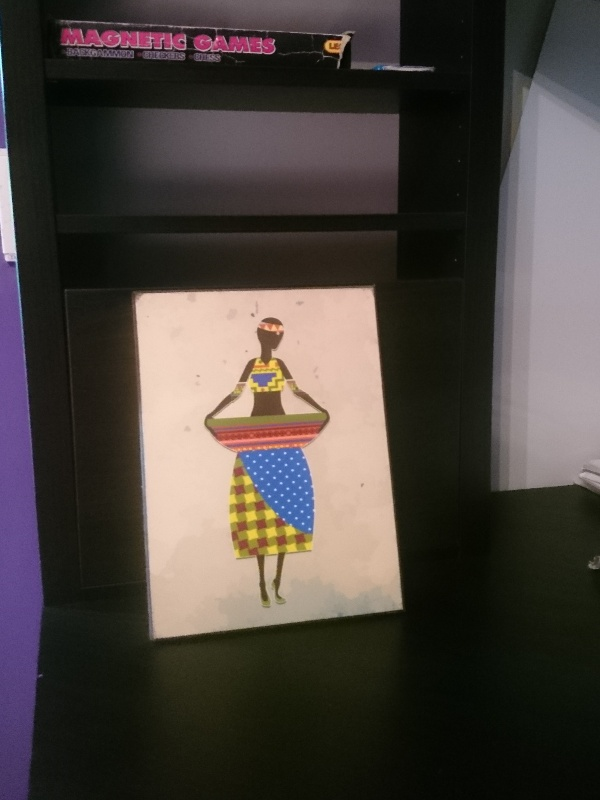my image: (140, 288, 394, 638)
